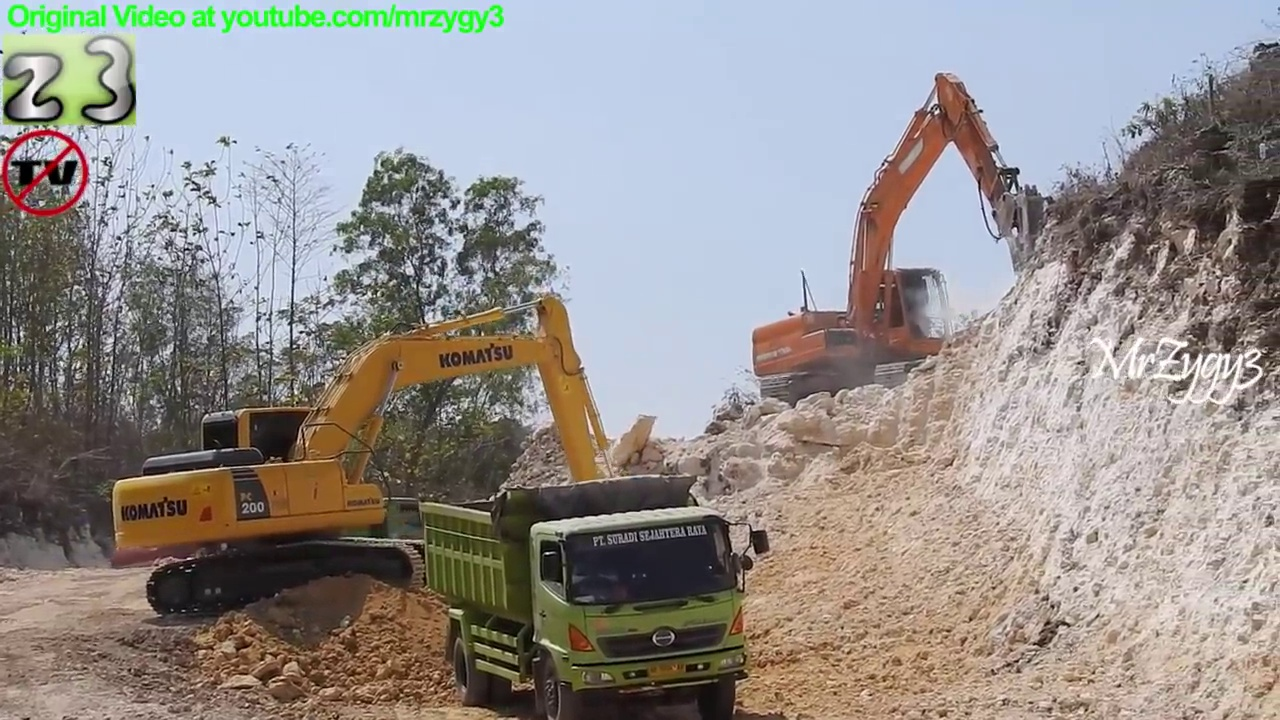excavator: (107, 290, 651, 619), (748, 65, 1061, 416)
truck: (416, 468, 778, 720)
